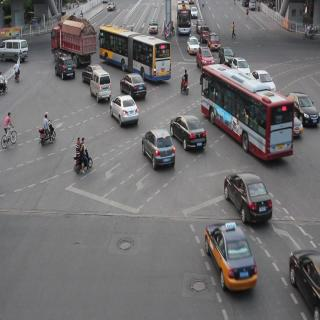BigCar: (202, 50, 302, 168), (99, 19, 167, 88), (51, 10, 92, 60), (171, 4, 195, 38)
Car: (201, 219, 266, 295), (225, 166, 281, 226), (178, 99, 206, 188), (286, 230, 320, 298), (149, 127, 174, 180), (120, 67, 151, 108), (111, 92, 137, 130), (90, 61, 106, 114), (0, 31, 33, 53), (189, 42, 217, 60), (58, 60, 78, 82)
